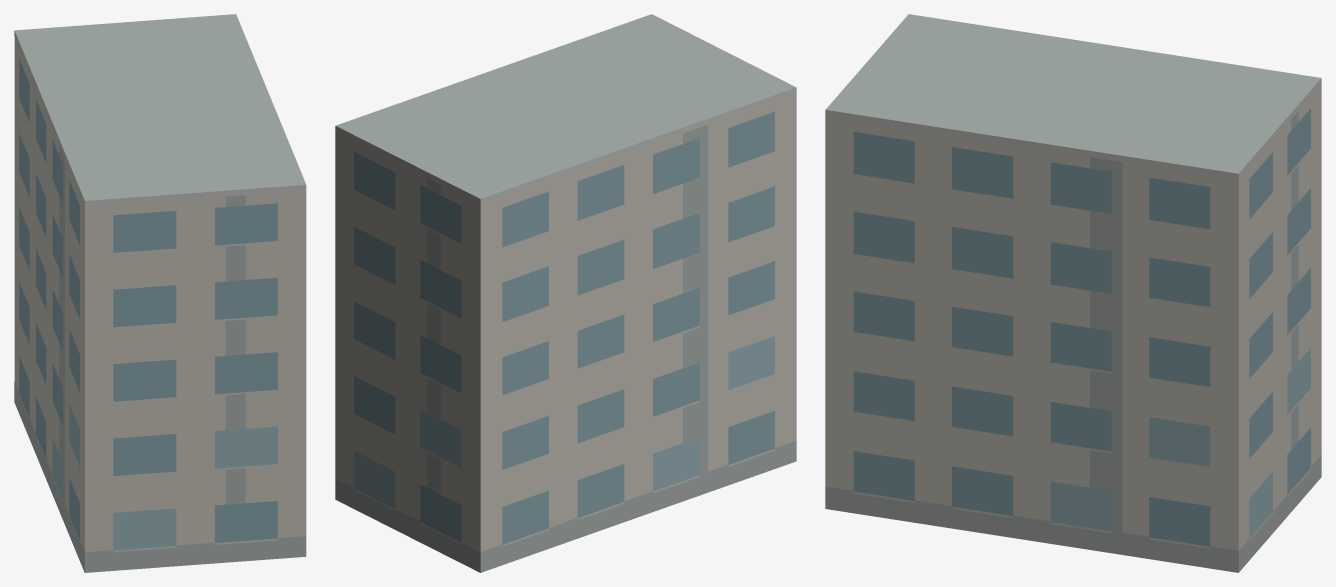
File: residential-35dc39c3-4e11-428c-99ce-a30dfae0bc6f.glb
3 views of the same model, side by side, from view 1: azimuth 30°, elevation 25°; view 2: azimuth 150°, elevation 25°; view 3: azimuth 270°, elevation 25° (orthographic). The views are drawn at different scales.
Visible parts, largest first — view 1: residential-35dc39c3-4e11-428c-99ce-a30dfae0bc6f.tmp; view 2: residential-35dc39c3-4e11-428c-99ce-a30dfae0bc6f.tmp; view 3: residential-35dc39c3-4e11-428c-99ce-a30dfae0bc6f.tmp.
Boxes of the visible parts, bbox=[...] form: residential-35dc39c3-4e11-428c-99ce-a30dfae0bc6f.tmp: bbox=[14, 14, 306, 572]; residential-35dc39c3-4e11-428c-99ce-a30dfae0bc6f.tmp: bbox=[335, 14, 796, 572]; residential-35dc39c3-4e11-428c-99ce-a30dfae0bc6f.tmp: bbox=[825, 14, 1321, 572].
Size of the model in its own units: 13.1 by 15.25 by 17.19.
